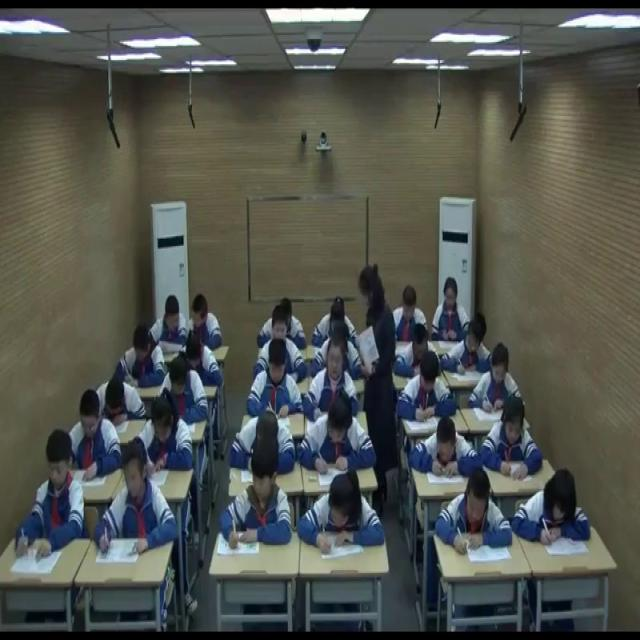distracted: (185, 293, 224, 352), (152, 294, 190, 351)
focused: (94, 440, 181, 566), (292, 469, 386, 569), (17, 428, 82, 564), (215, 445, 292, 550), (514, 459, 594, 555), (438, 470, 513, 559), (295, 397, 378, 476), (481, 396, 545, 482), (305, 333, 366, 423), (140, 382, 197, 473), (226, 403, 299, 474), (466, 337, 528, 416), (399, 347, 461, 425), (65, 394, 119, 478), (410, 416, 480, 480), (248, 334, 304, 414), (156, 353, 211, 425), (255, 309, 308, 383), (438, 317, 496, 383), (96, 368, 149, 434), (312, 316, 366, 378), (119, 330, 168, 397), (428, 278, 475, 346), (307, 297, 363, 354), (392, 327, 442, 382), (390, 289, 433, 347), (180, 331, 218, 389)
